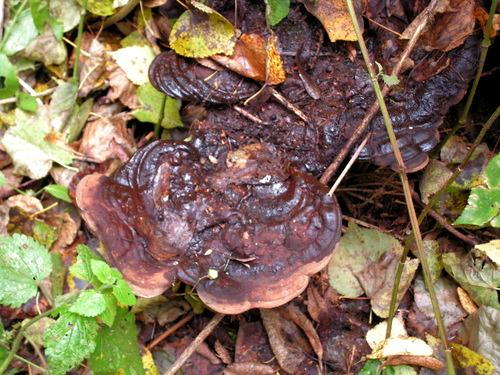Ganoderma - Fruit Body: (66, 0, 485, 315)
